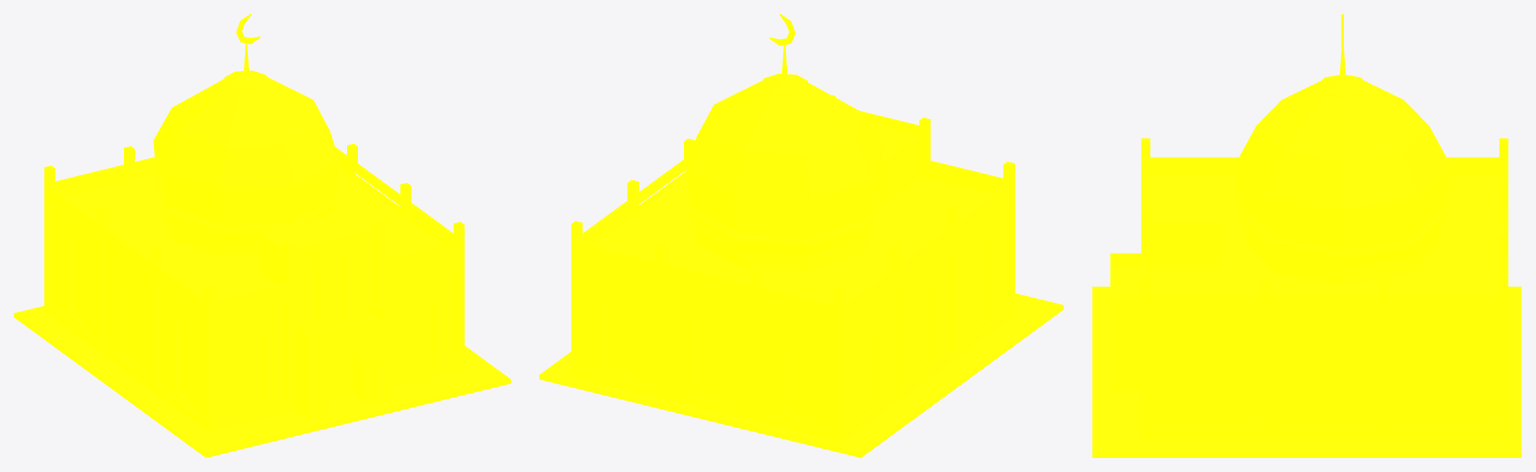
File: mosque.glb
3 views of the same model, side by side, from view 1: azimuth 30°, elevation 25°; view 2: azimuth 150°, elevation 25°; view 3: azimuth 270°, elevation 25° (orthographic). The views are drawn at different scales.
Parts seen in each view (by area): view 1: mosque; view 2: mosque; view 3: mosque.
Part boxes in pixels (box(x1,y1,x2,y2)): mosque: box(14, 14, 510, 457); mosque: box(539, 14, 1063, 457); mosque: box(1092, 14, 1521, 457).
Size of the model in its own units: 22 by 22.33 by 24.
1 material, 1 textured.
